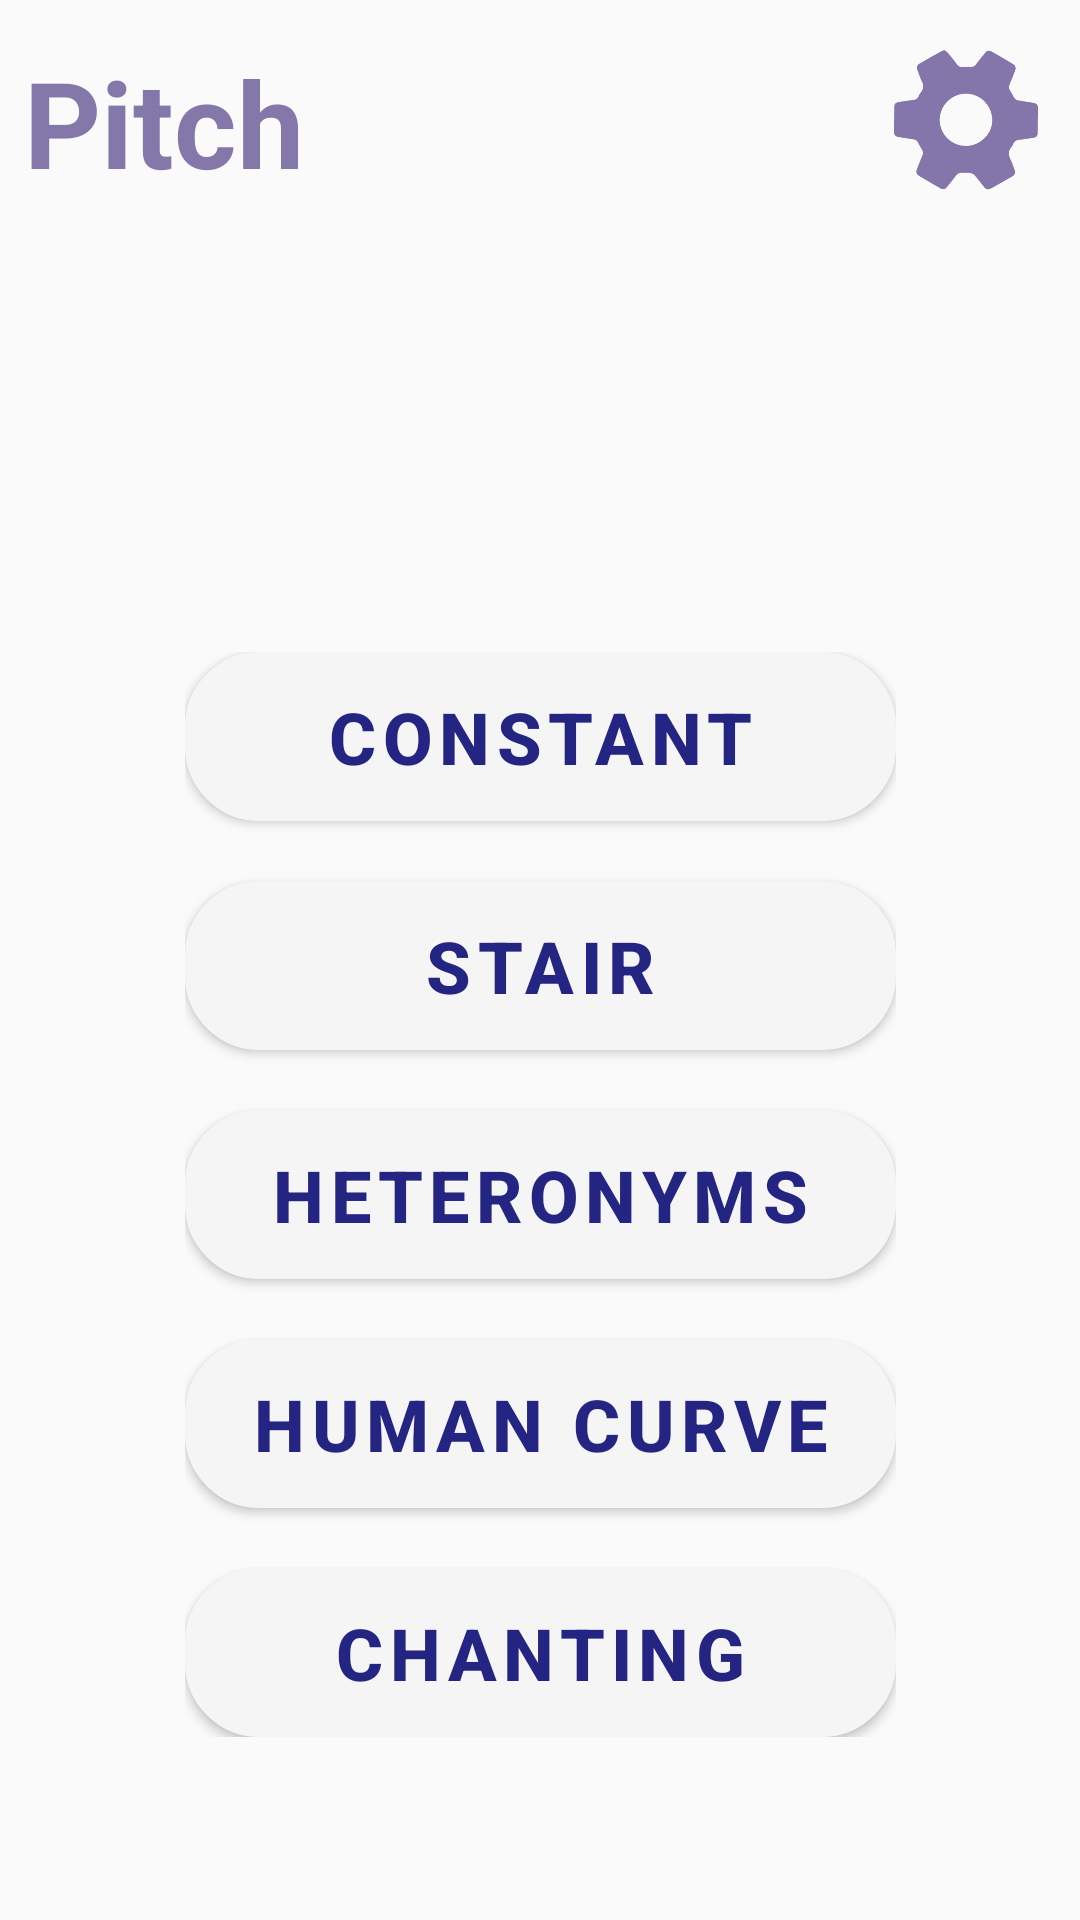

Point at icon controls on the screen. Image size 1080*1920, points as (x,y).
The Settings Button: (966,120)
